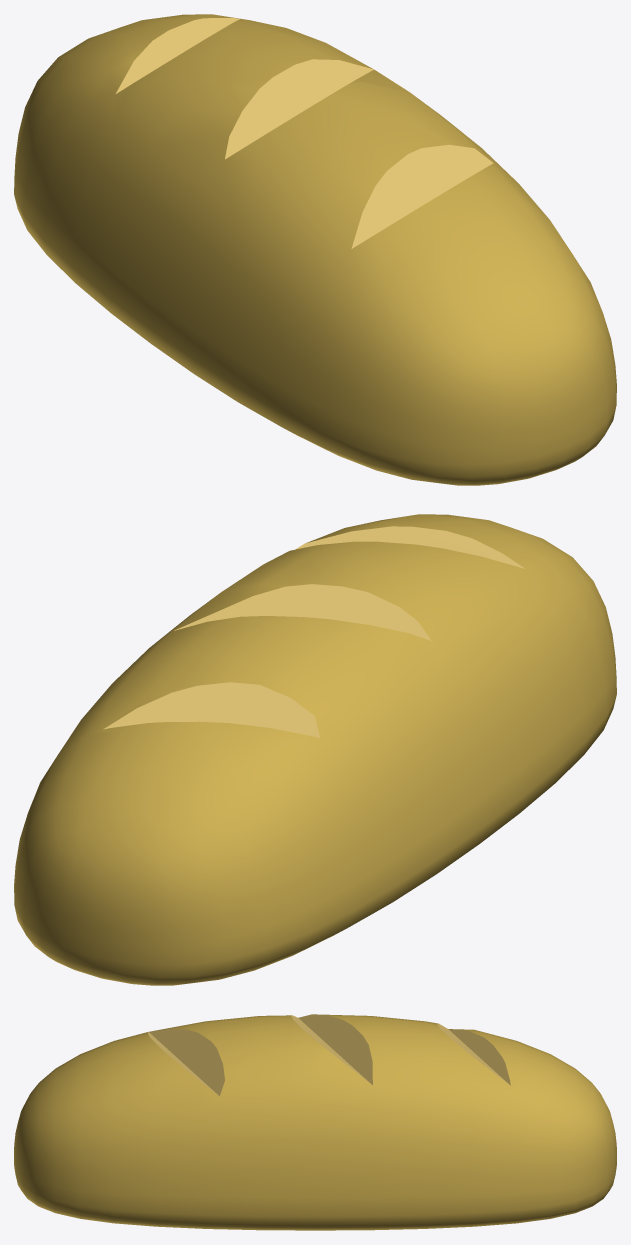
The model's file is Bread.fbx.
3 renders of one model, top to bottom at view 1: azimuth 30°, elevation 25°; view 2: azimuth 150°, elevation 25°; view 3: azimuth 270°, elevation 25°, orthographic. The views are drawn at different scales.
Visible parts, largest first — view 1: Bread; view 2: Bread; view 3: Bread.
Boxes of the visible parts, x1,y1,x2,y2 form: Bread: (14, 14, 616, 485); Bread: (14, 514, 616, 985); Bread: (14, 1014, 616, 1230).
Size of the model in its own units: 15.85 by 36.25 by 10.72.
